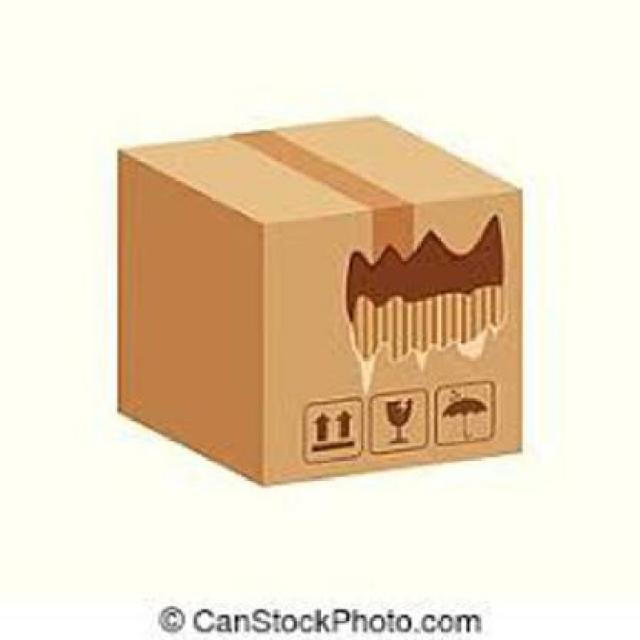defect: (112, 106, 526, 488)
